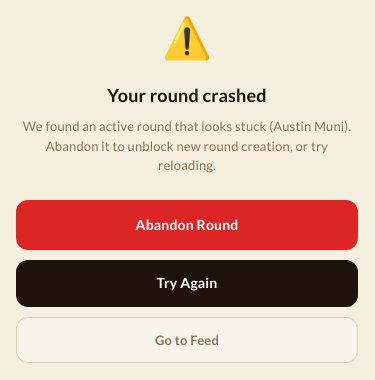
Test case: <ErrorBoundary /> — stuck active round (Jonathan's scenario) › Abandon button disabled + label swaps during in-flight
Click the button with test id "error-boundary-abandon": x=187, y=225 [16,200,358,250]
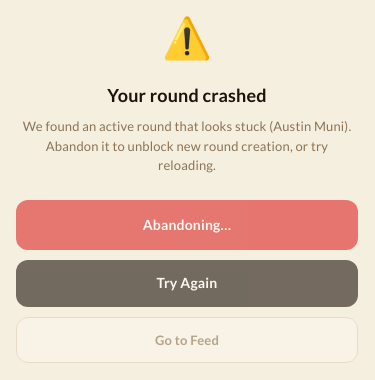
Expected: the button with test id "error-boundary-abandon" is disabled, [16,200,358,250]
Expected: the button with test id "error-boundary-abandon" reads "Abandoning…", [16,200,358,250]
Expected: the button with test id "error-boundary-retry" is disabled, [16,260,358,307]
